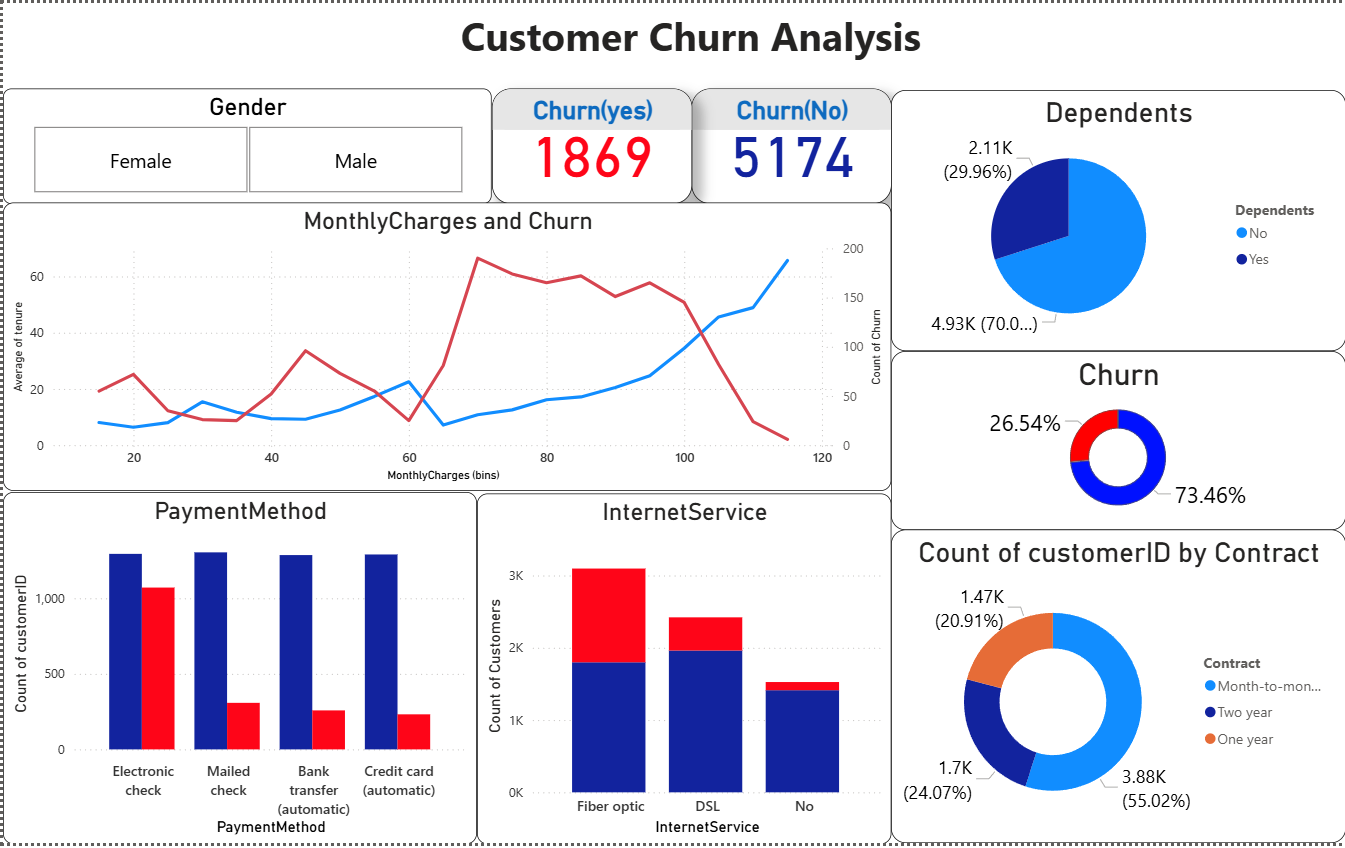

Layout of this report page (visuals, bound fields, positions):
{"tool":"powerbi","page":{"name":"Page 1","canvas":[1280,800],"ordinal":0},"visuals":[{"type":"card","title":"Churn(No)","fields":{"Values":["CountNonNull(Customer_Churn.Churn)"]},"box":[655.7,80.8,190.6,109.8],"z":0},{"type":"card","title":"Churn(yes)","fields":{"Values":["CountNonNull(Customer_Churn.Churn)"]},"box":[465.1,80.8,190.6,109.8],"z":1000},{"type":"columnChart","title":" InternetService","fields":{"Category":["Customer_Churn.InternetService"],"Y":["CountNonNull(Customer_Churn.customerID)"],"Series":["Customer_Churn.Churn"]},"box":[451.3,466.6,394.9,333.9],"z":2000},{"type":"pieChart","title":"Dependents","fields":{"Category":["Customer_Churn.Dependents"],"Y":["CountNonNull(Customer_Churn.customerID)"]},"box":[846.3,82.3,433,248.5],"z":3000},{"type":"slicer","title":"Gender","fields":{"Values":["Customer_Churn.gender"]},"box":[0,80.8,465.1,109.8],"z":4000},{"type":"clusteredColumnChart","title":"PaymentMethod","fields":{"Category":["Customer_Churn.PaymentMethod"],"Y":["CountNonNull(Customer_Churn.customerID)"],"Series":["Customer_Churn.Churn"]},"box":[0,465.1,451.3,335.5],"z":5000},{"type":"lineChart","title":" MonthlyCharges and Churn","fields":{"Category":["Customer_Churn.MonthlyCharges (bins)"],"Y":["Avg(Customer_Churn.tenure)"],"Y2":["CountNonNull(Customer_Churn.Churn)"]},"box":[0,190.6,846.3,274.5],"z":6000},{"type":"donutChart","title":"Churn","fields":{"Category":["Customer_Churn.Churn"],"Y":["CountNonNull(Customer_Churn.customerID)"]},"box":[846.3,330.9,433,170.8],"z":7000},{"type":"donutChart","fields":{"Category":["Customer_Churn.Contract"],"Y":["CountNonNull(Customer_Churn.customerID)"]},"box":[846.3,501.7,433,298.9],"z":8000},{"type":"textbox","box":[0,0,1279.3,64],"z":8001}]}

Visuals, with their boxes in screenshot pixels (x1, y1, x2, y2), scaled from the page's 1280x800 canvas onto the 1345x848 screenshot:
"Churn(No)" card: box(689, 86, 889, 202)
"Churn(yes)" card: box(489, 86, 689, 202)
" InternetService" columnChart: box(474, 495, 889, 847)
"Dependents" pieChart: box(889, 87, 1344, 351)
"Gender" slicer: box(0, 86, 489, 202)
"PaymentMethod" clusteredColumnChart: box(0, 493, 474, 847)
" MonthlyCharges and Churn" lineChart: box(0, 202, 889, 493)
"Churn" donutChart: box(889, 351, 1344, 532)
donutChart - Customer_Churn.Contract x CountNonNull(Customer_Churn.customerID): box(889, 532, 1344, 847)
textbox: box(0, 0, 1344, 68)
